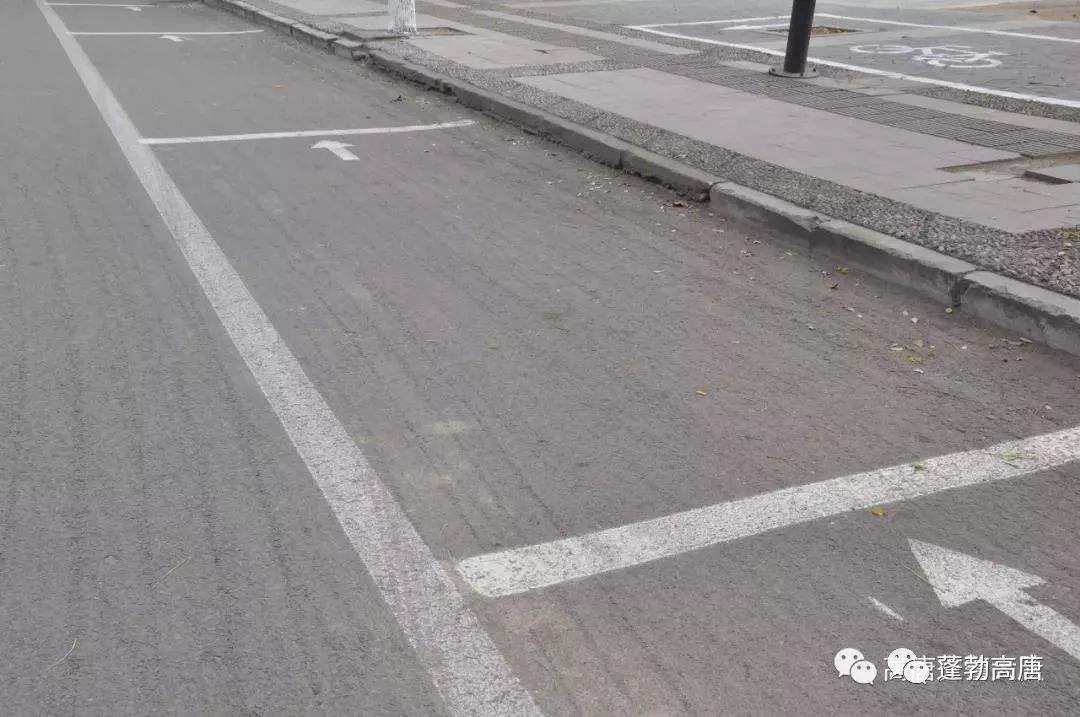slot_nocar: (104, 93, 1080, 611), (40, 14, 502, 159), (38, 1, 274, 42)
